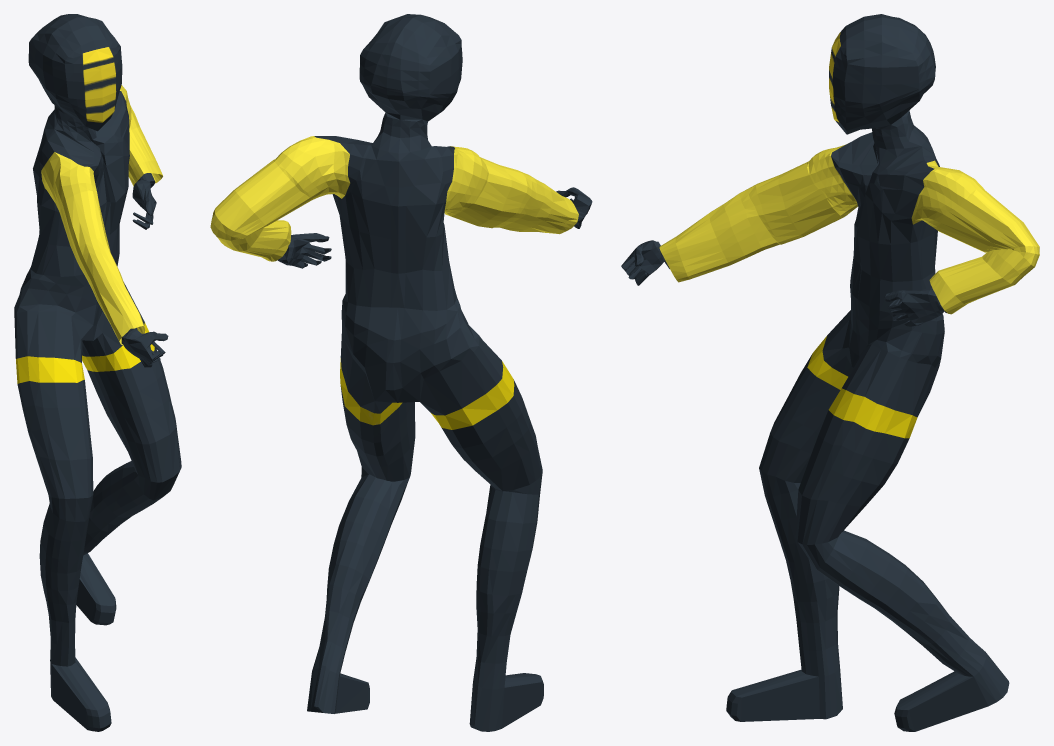
File: Sentry_WB_000021.obj
The picture shows the model from 3 angles, left to right: view 1: azimuth 30°, elevation 25°; view 2: azimuth 150°, elevation 25°; view 3: azimuth 270°, elevation 25°; orthographic projection. The views are drawn at different scales.
Parts seen in each view (by area): view 1: Cube; view 2: Cube; view 3: Cube.
Boxes of the visible parts, box(x1,y1,x2,y2) form: Cube: box(14, 14, 181, 731); Cube: box(210, 14, 592, 731); Cube: box(621, 14, 1039, 731).
Bounding box in the file's own units: 1.17 × 3.78 × 1.98.
